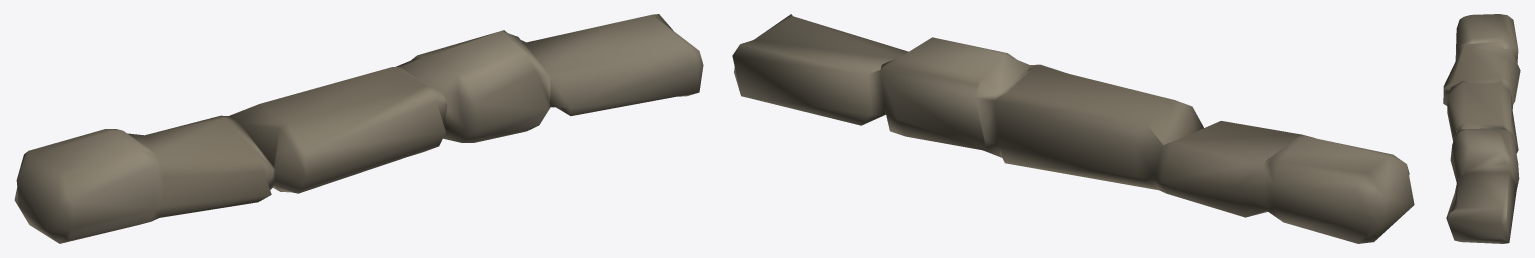
The model's file is infra_boundary_t1_stones.glb.
3 renders of one model, left to right at view 1: azimuth 30°, elevation 25°; view 2: azimuth 150°, elevation 25°; view 3: azimuth 270°, elevation 25°, orthographic. The views are drawn at different scales.
Visible parts, largest first — view 1: stone.005; view 2: stone.005; view 3: stone.005.
Part boxes in pixels (x1,y1,x2,y2): stone.005: (14,14,703,243); stone.005: (732,14,1414,243); stone.005: (1443,14,1520,243).
Size of the model in its own units: 2.09 by 0.2419 by 0.3462.
